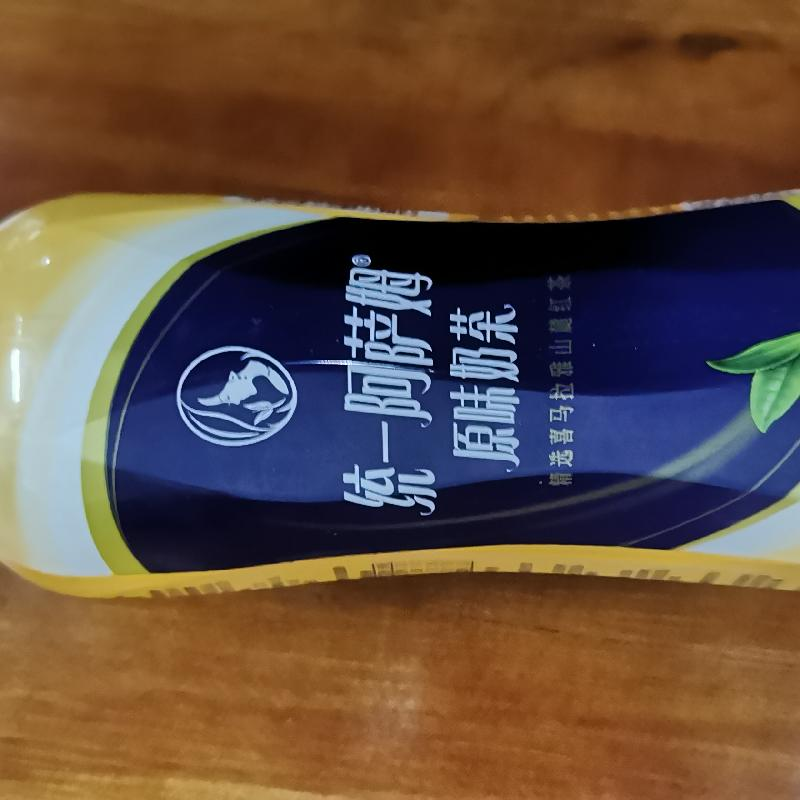bottles: (7, 178, 799, 606)
